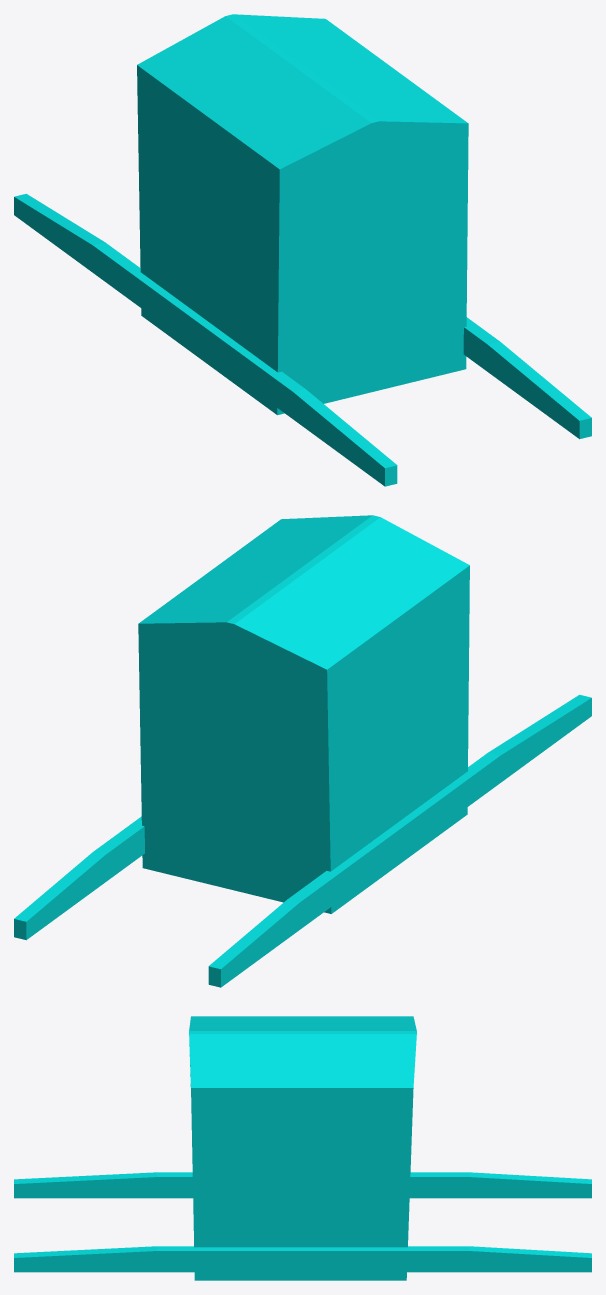
File: SM_Prop_Palanquin_01_Collision.fbx
The picture shows the model from 3 angles, top to bottom: view 1: azimuth 30°, elevation 25°; view 2: azimuth 150°, elevation 25°; view 3: azimuth 270°, elevation 25°; orthographic projection. The views are drawn at different scales.
Visible parts, largest first — view 1: SM_Prop_Palanquin_01_Collision; view 2: SM_Prop_Palanquin_01_Collision; view 3: SM_Prop_Palanquin_01_Collision.
Boxes of the visible parts, x1,y1,x2,y2 form: SM_Prop_Palanquin_01_Collision: (14, 14, 591, 486); SM_Prop_Palanquin_01_Collision: (14, 515, 591, 987); SM_Prop_Palanquin_01_Collision: (14, 1016, 591, 1280).
Bounding box in the file's own units: 112 × 140 × 346.
